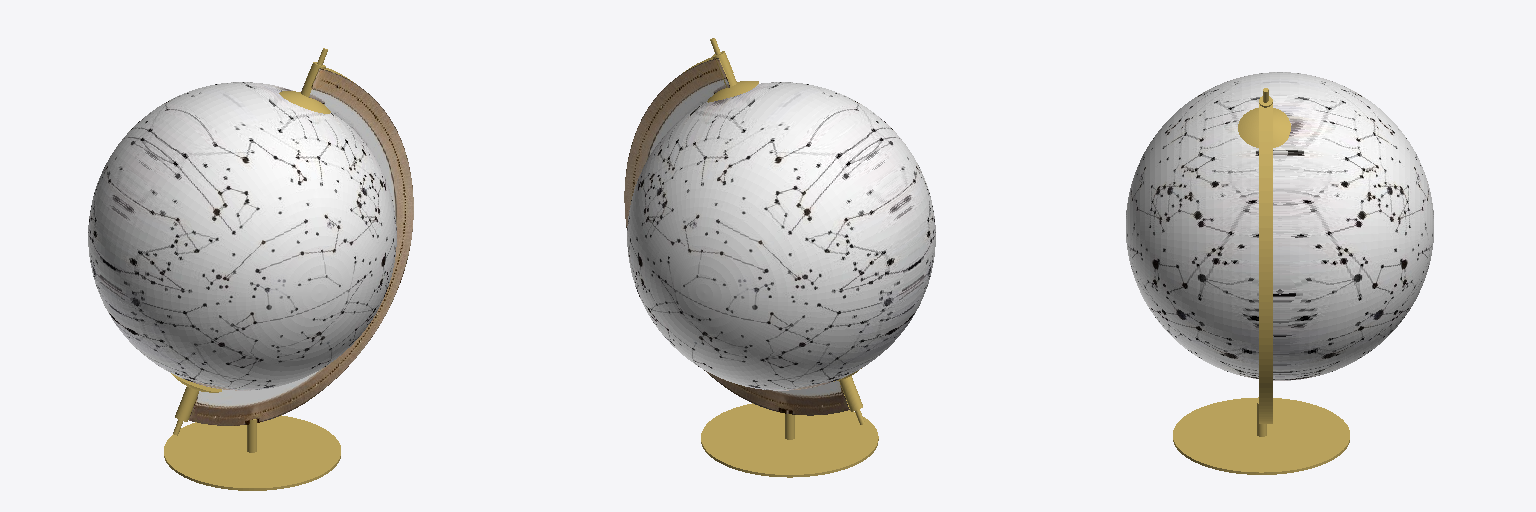
The picture shows the model from 3 angles: view 1: azimuth 30°, elevation 25°; view 2: azimuth 150°, elevation 25°; view 3: azimuth 270°, elevation 25°; orthographic projection.
Parts seen in each view (by area): view 1: Mesh2 Group3 Group1 Model, Mesh3 Group4 Group1 Model, Mesh5 Group6 Group1 Model, Mesh4 Group5 Group1 Model, Mesh1 Group2 Group1 Model; view 2: Mesh2 Group3 Group1 Model, Mesh5 Group6 Group1 Model, Mesh3 Group4 Group1 Model, Mesh4 Group5 Group1 Model, Mesh1 Group2 Group1 Model; view 3: Mesh2 Group3 Group1 Model, Mesh5 Group6 Group1 Model, Mesh3 Group4 Group1 Model, Mesh4 Group5 Group1 Model.
Part boxes in pixels (x1,y1,x2,y2): Mesh2 Group3 Group1 Model: (88,82,396,390); Mesh3 Group4 Group1 Model: (188,66,413,425); Mesh5 Group6 Group1 Model: (164,415,340,490); Mesh4 Group5 Group1 Model: (279,48,330,113); Mesh1 Group2 Group1 Model: (171,373,221,435); Mesh2 Group3 Group1 Model: (627,82,935,390); Mesh5 Group6 Group1 Model: (701,403,878,477); Mesh3 Group4 Group1 Model: (624,55,849,415); Mesh4 Group5 Group1 Model: (707,38,758,102); Mesh1 Group2 Group1 Model: (834,368,864,424); Mesh2 Group3 Group1 Model: (1126,72,1433,380); Mesh5 Group6 Group1 Model: (1173,397,1349,474); Mesh3 Group4 Group1 Model: (1259,104,1272,423); Mesh4 Group5 Group1 Model: (1238,88,1290,147).
Bounding box in the file's own units: 1.22 × 1.57 × 1.11.
2 materials, 1 textured.